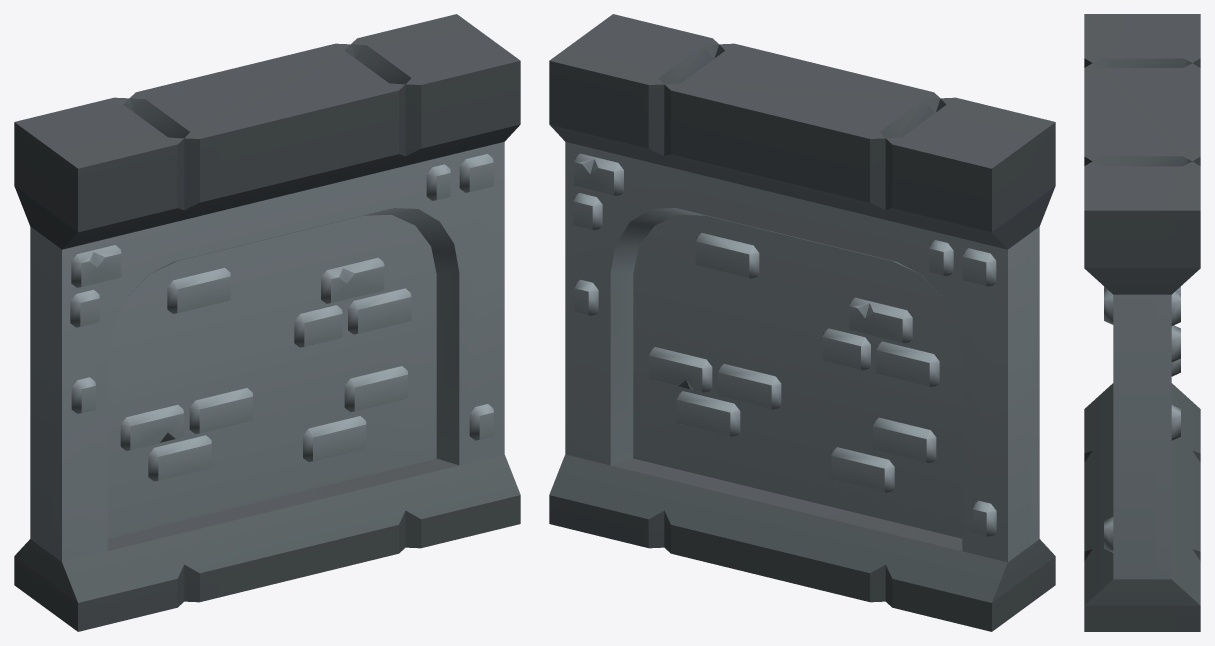
Rendered from wall_arched.glb.
The picture shows the model from 3 angles, left to right: view 1: azimuth 30°, elevation 25°; view 2: azimuth 150°, elevation 25°; view 3: azimuth 270°, elevation 25°; orthographic projection. The views are drawn at different scales.
Parts seen in each view (by area): view 1: wall_arched; view 2: wall_arched; view 3: wall_arched.
Boxes of the visible parts, x1,y1,x2,y2 form: wall_arched: (14, 14, 520, 631); wall_arched: (549, 14, 1055, 631); wall_arched: (1084, 14, 1200, 631).
Size of the model in its own units: 4 by 4 by 1.
1 material, 1 textured.
